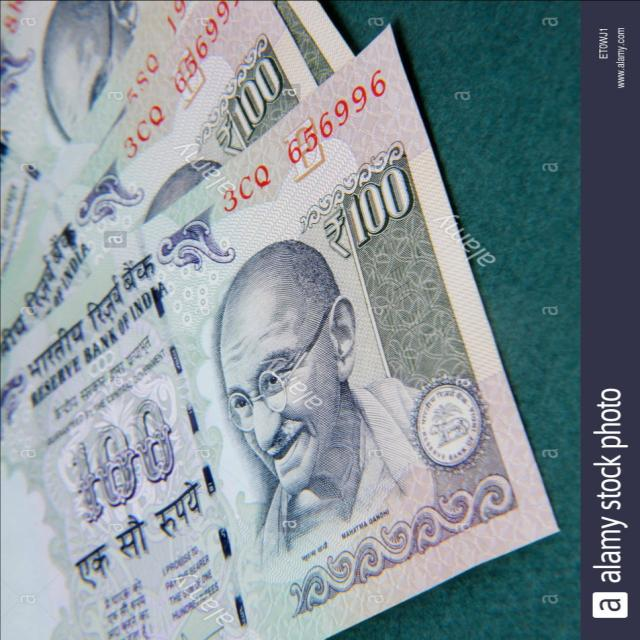100IndianRupees: (0, 23, 563, 633)
